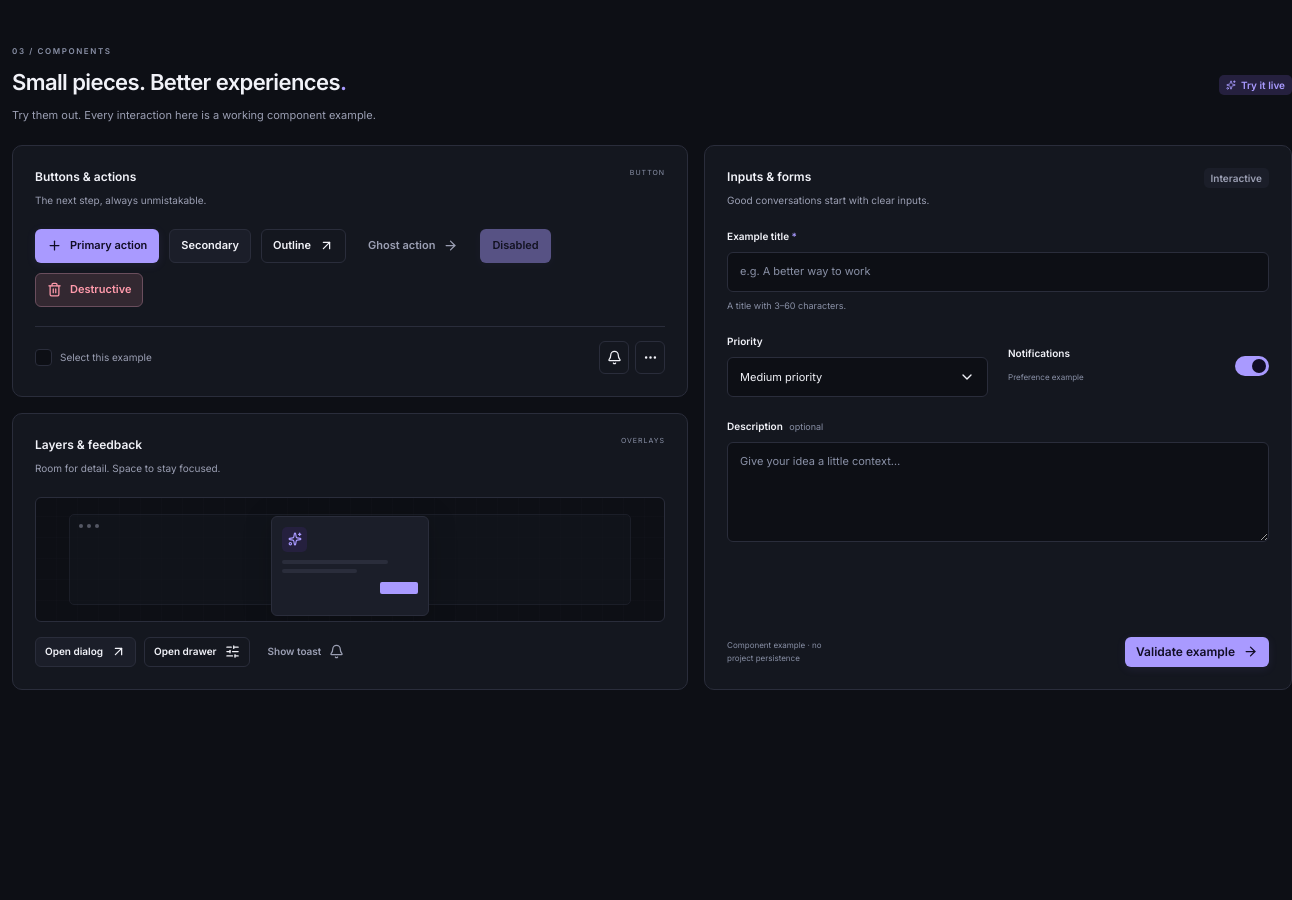
Test: Component lab interactions › validates an empty example and accepts a valid title
The image size is (1292, 900).
Click the button "Validate example". click: (1197, 652)
box: [1125,637,1269,667]
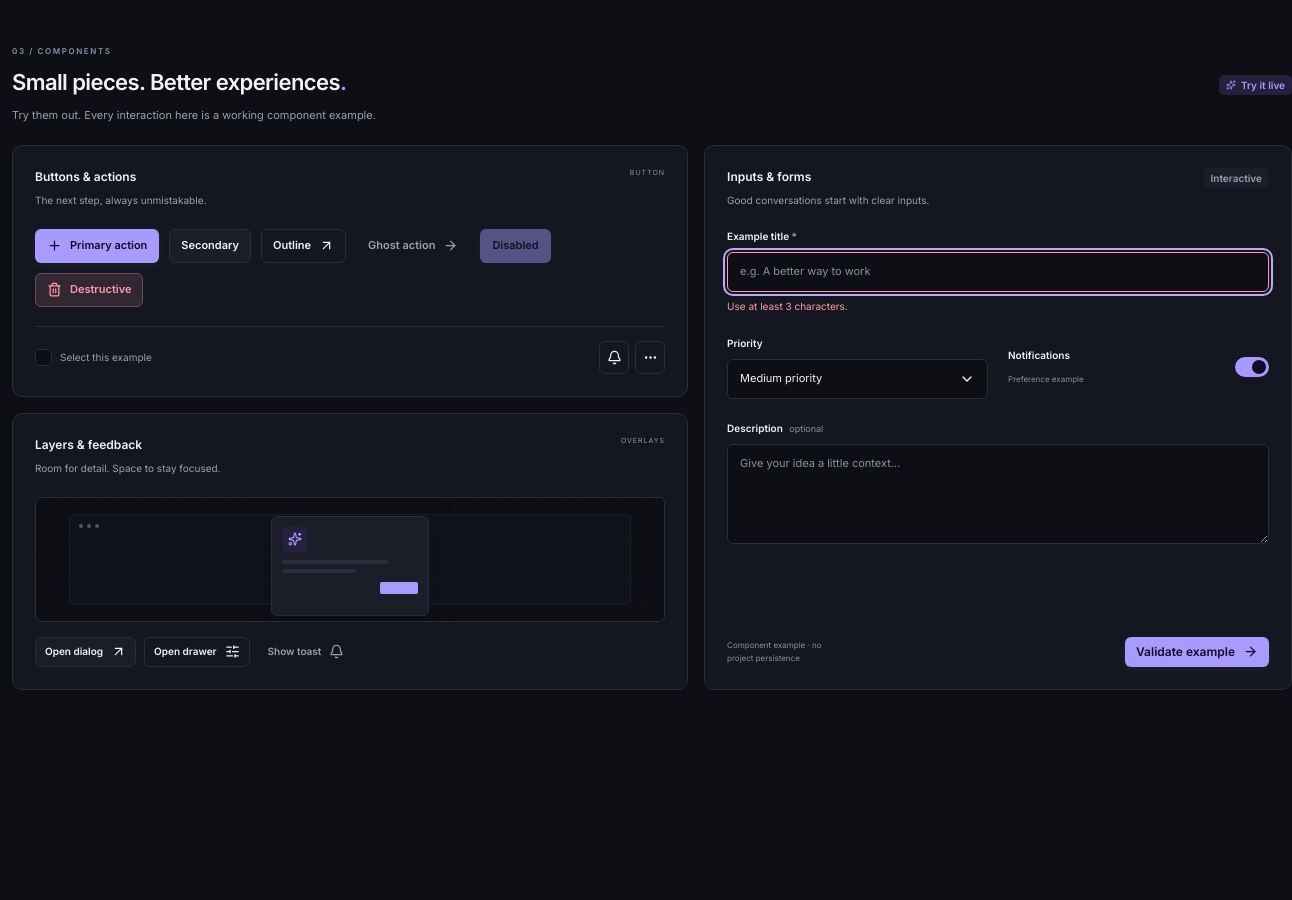
Now the text "Use at least 3 characters." is shown, box [727,300,848,312]
Type "Design foundation" into the field labelled "Example title *". click: (998, 272)
box: [727,252,1269,292]
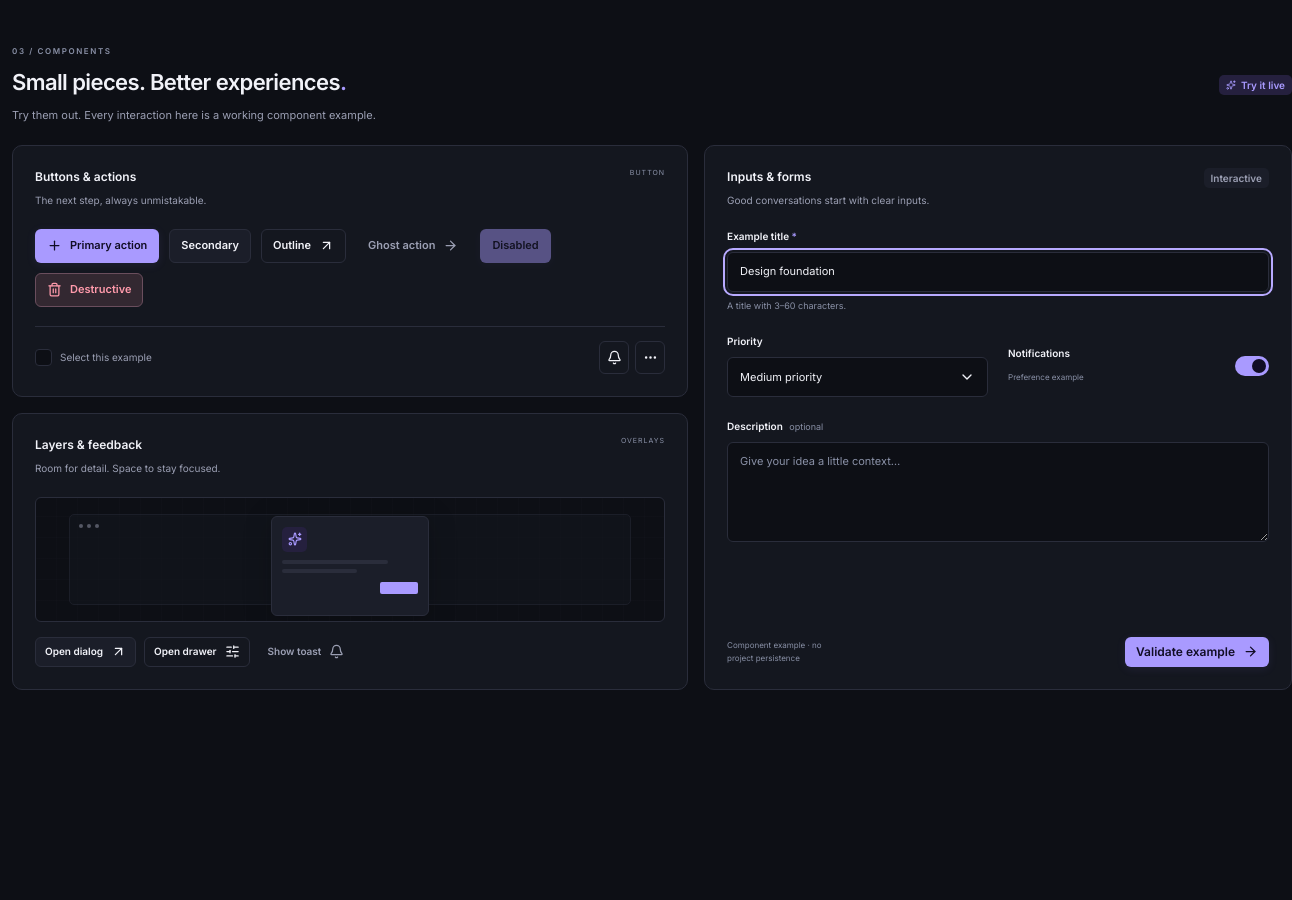
Click the button "Validate example". click: (1197, 652)
box: [1125,637,1269,667]
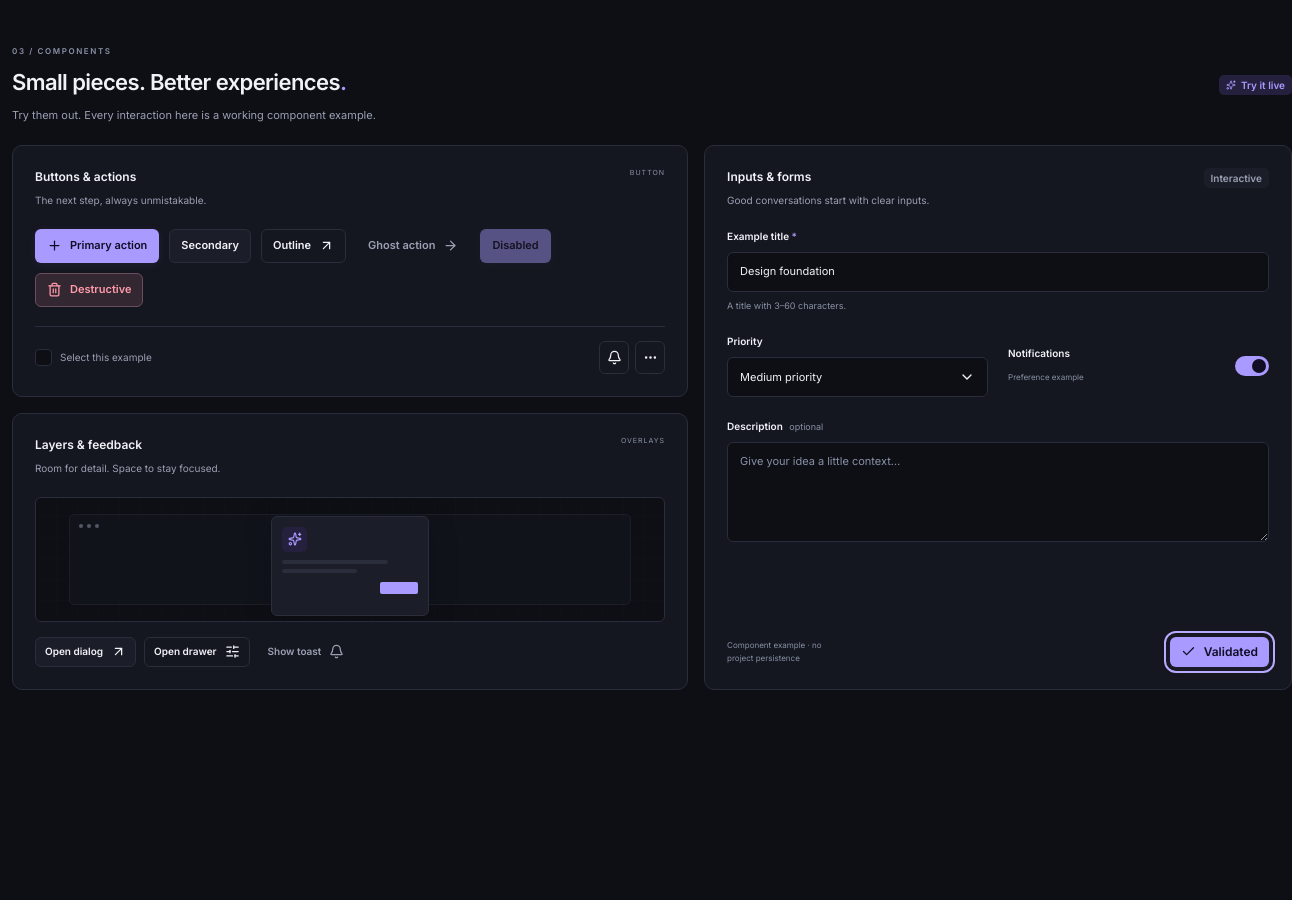
Now the button "Validated" is shown, box [1170,637,1269,667]
